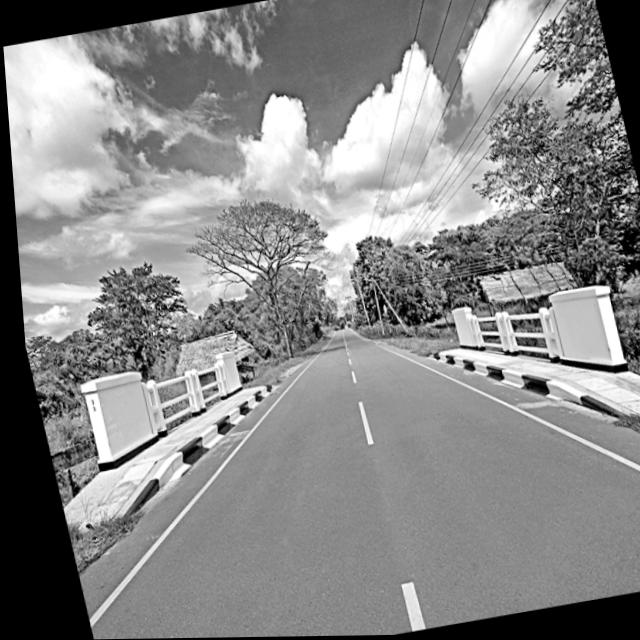cleat: (3, 0, 640, 639)
